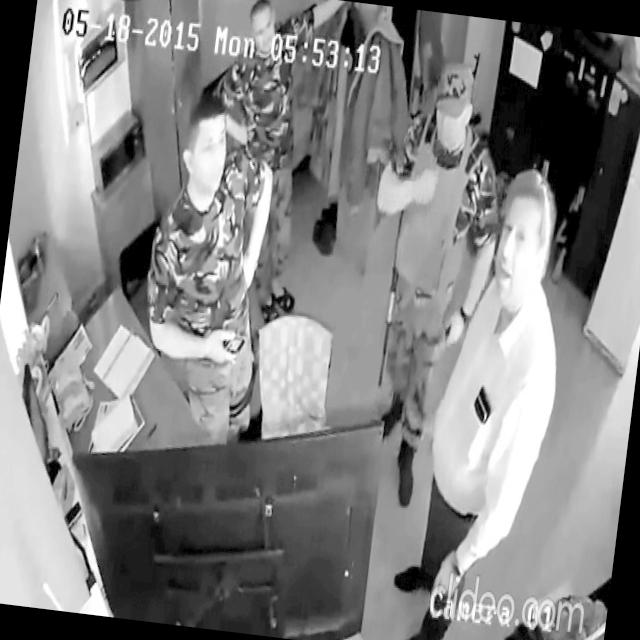gun: (544, 140, 600, 289), (374, 252, 402, 394), (463, 49, 490, 132)
person: (383, 156, 584, 640), (125, 84, 293, 450), (181, 0, 348, 329)
person with a gun: (338, 52, 518, 518)
